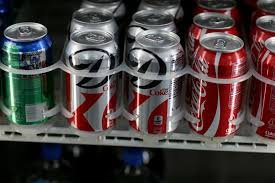can: (187, 31, 249, 145), (122, 28, 180, 141), (1, 18, 59, 128), (65, 31, 115, 141), (254, 36, 275, 130)
